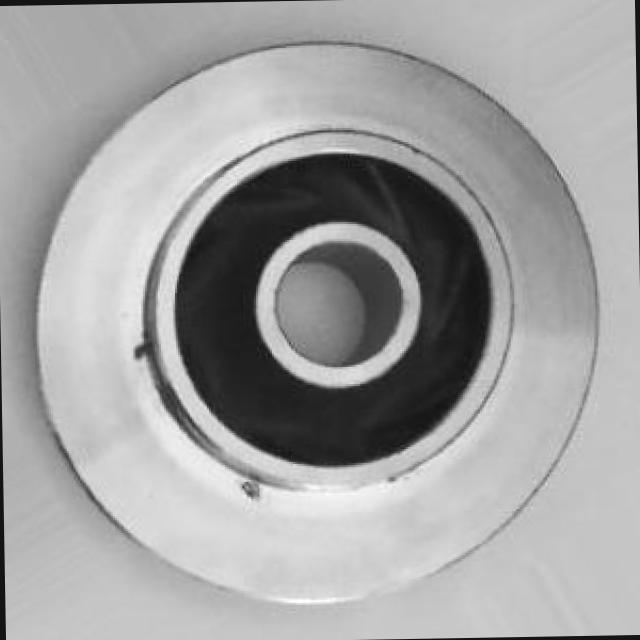Defect: (128, 338, 155, 362)
